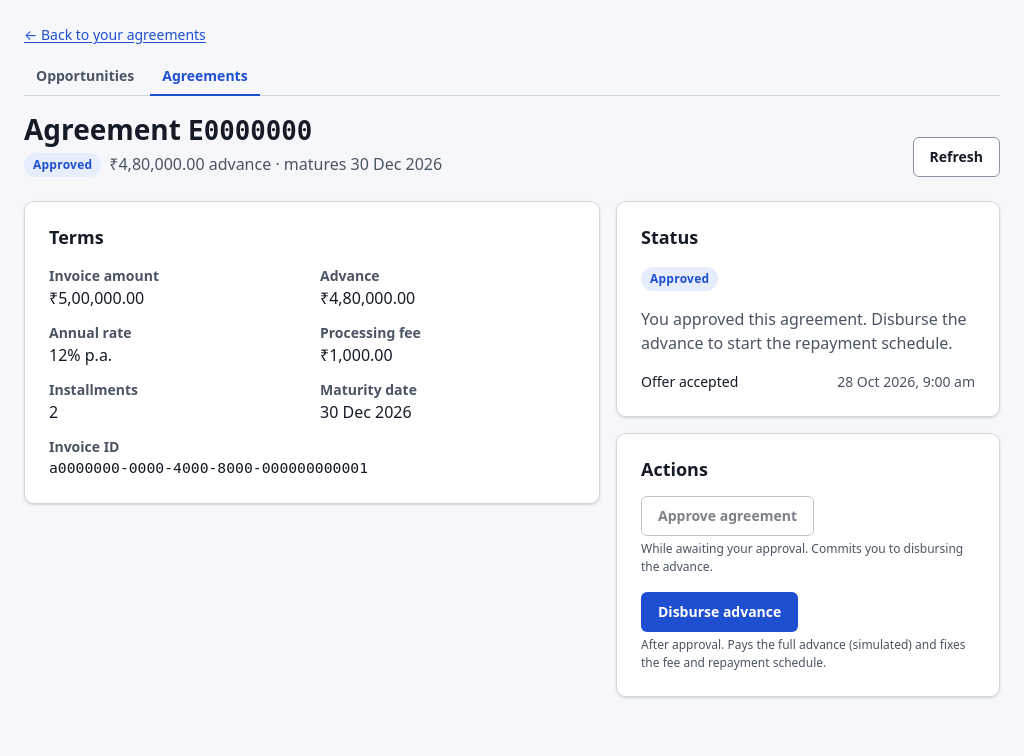
Test case: AgreementDetailComponent › asks for confirmation, disburses once with an Idempotency-Key, then shows the schedule
Click the button "Disburse advance".
click(720, 612)  # box top-left (641, 592), bottom-right (798, 632)
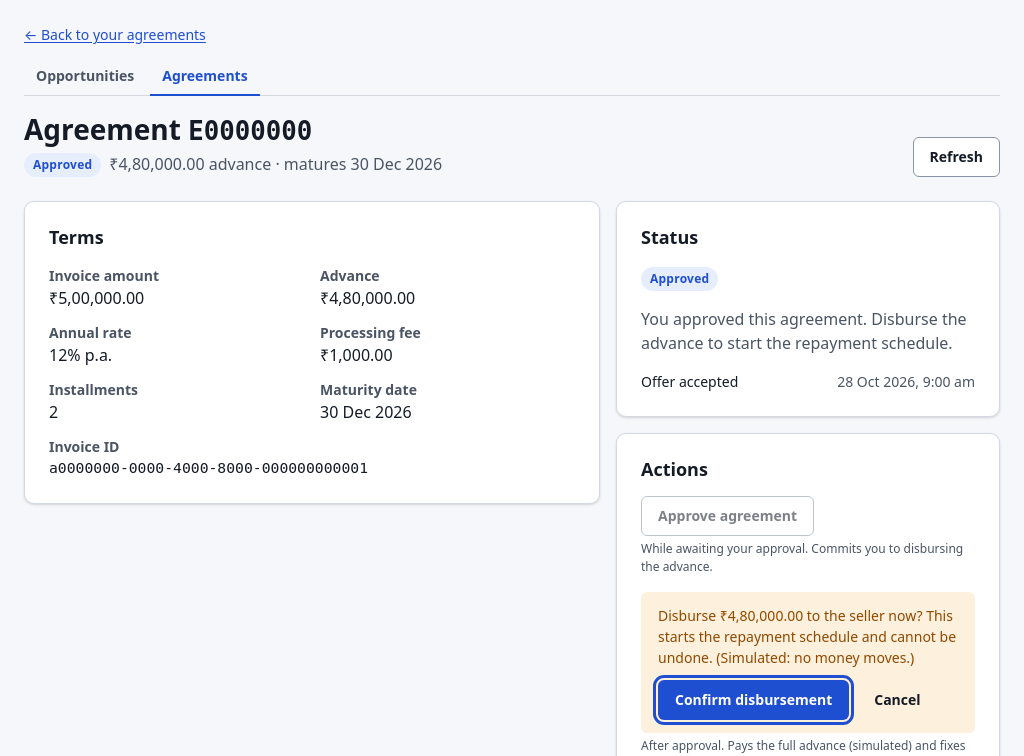
Expected: the element with class "confirm" shows "Disburse ₹4,80,000.00 to the seller now?", top-left (658, 606), bottom-right (956, 667)
Click the button "Confirm disbursement".
click(754, 700)  # box top-left (658, 680), bottom-right (849, 720)
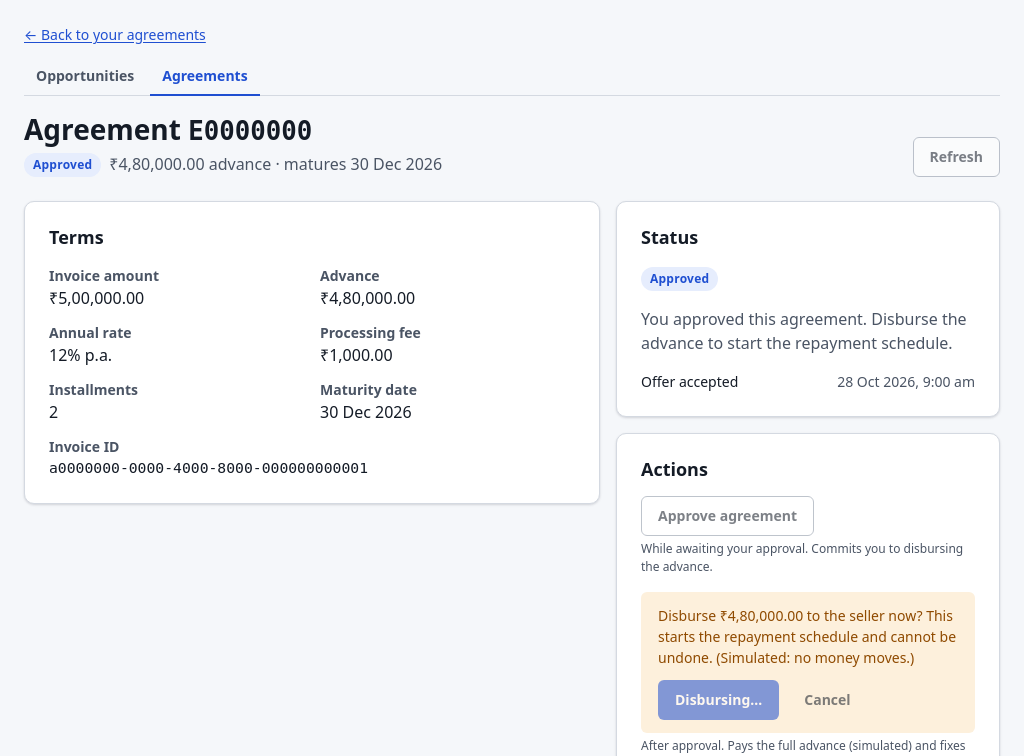
Expected: the button "Disbursing…" is shown
Expected: the button "Disbursing…" is disabled
Click the button "Disbursing…".
click(719, 700)  # box top-left (658, 680), bottom-right (779, 720)
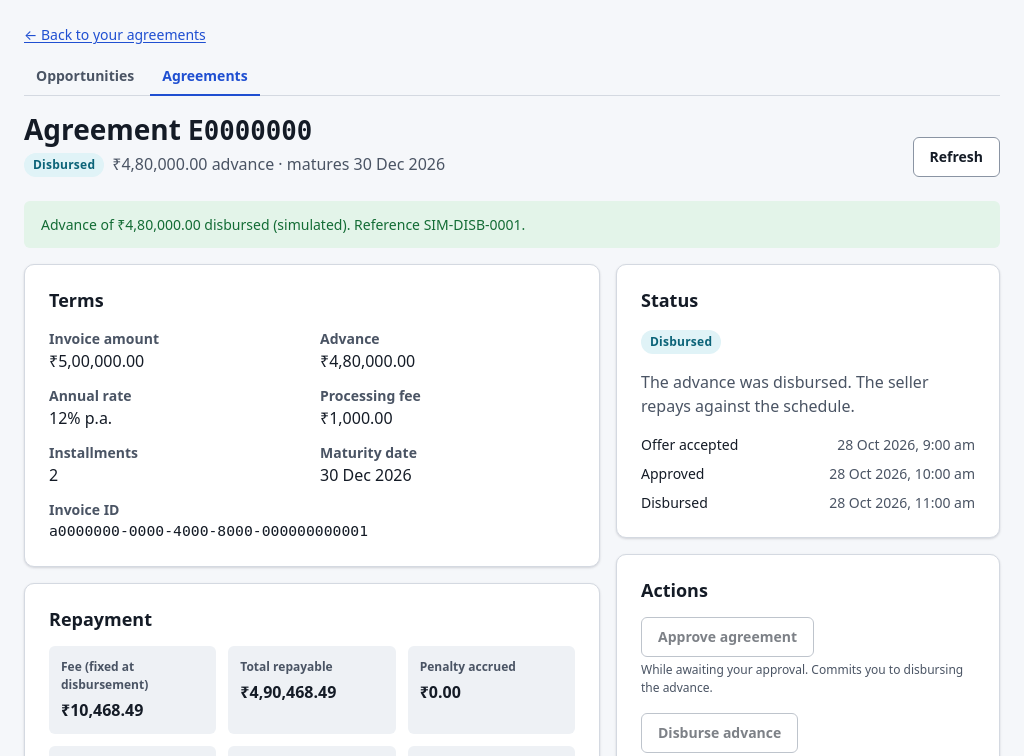
Expected: the message with class "notice" reads "Advance of ₹4,80,000.00 disbursed (simulated). Reference SIM-DISB-0001.", top-left (41, 215), bottom-right (525, 234)
Expected: the text with class "badge" below "E0000000" reads "Disbursed", top-left (33, 156), bottom-right (95, 173)
Expected: the text "₹4,90,468.49" is shown, top-left (240, 681), bottom-right (336, 703)
